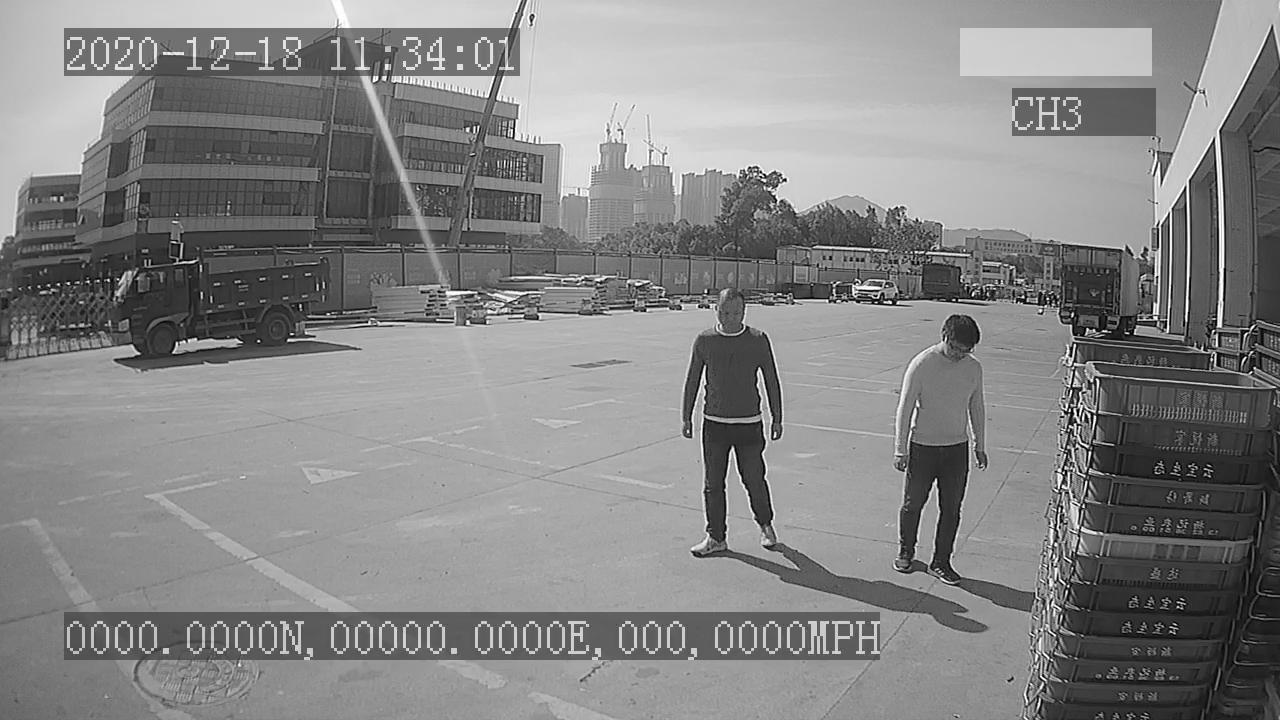person: (677, 285, 791, 560), (889, 309, 991, 589)
